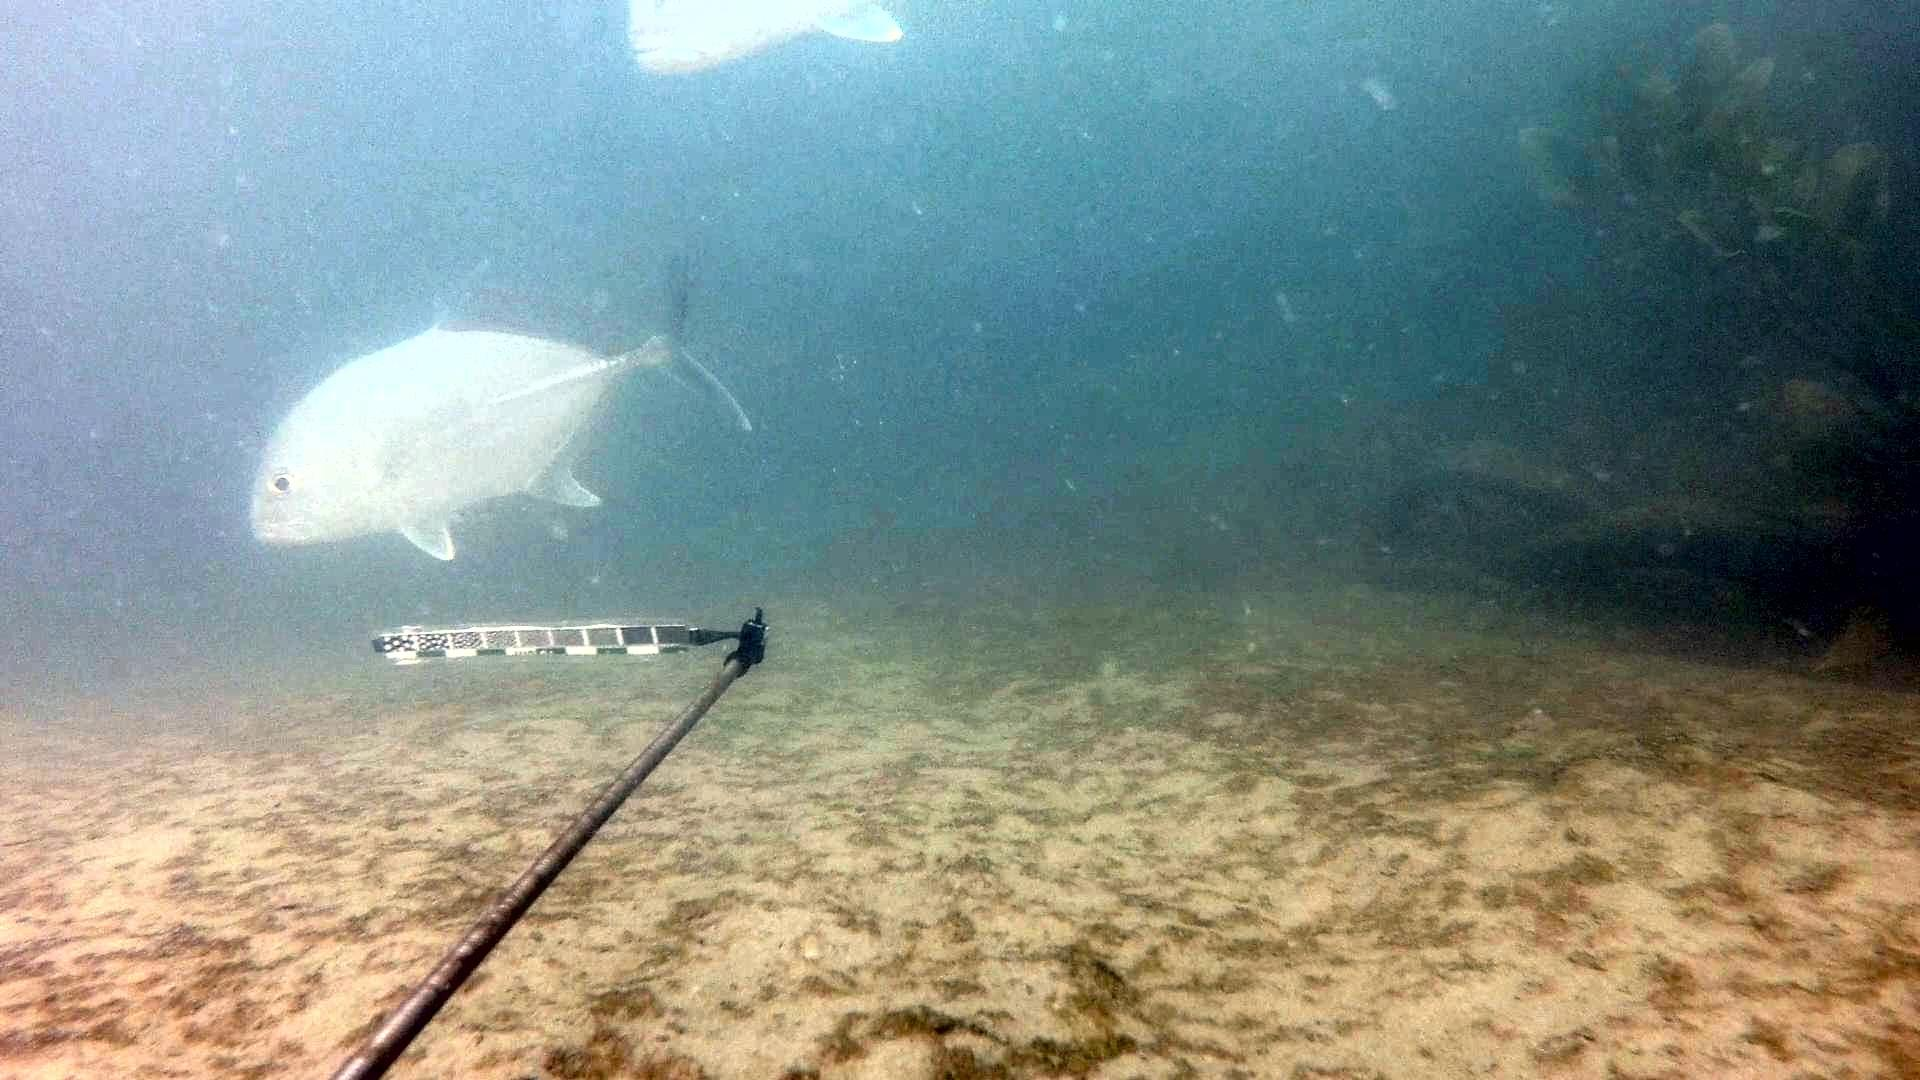caranx: (243, 233, 769, 570)
